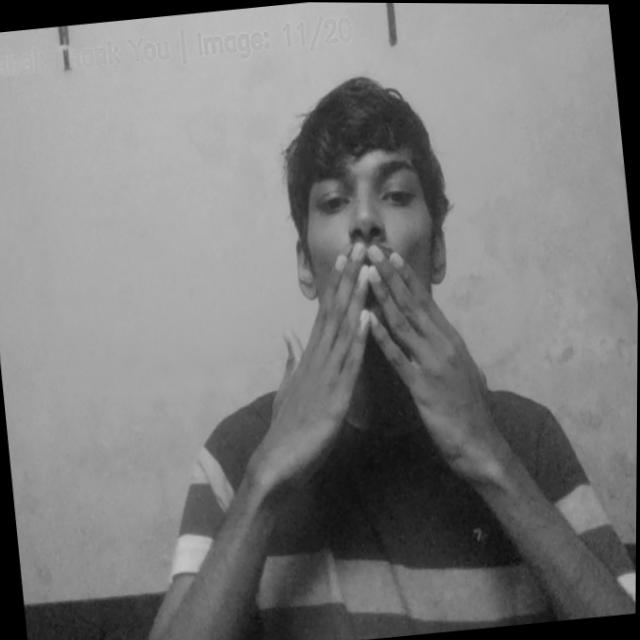Thank You: (239, 229, 493, 465)
